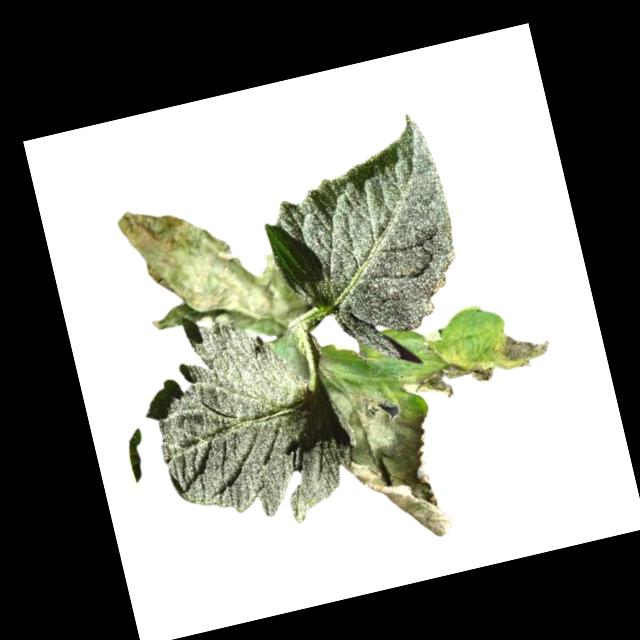Late_blight: (114, 174, 315, 364), (332, 374, 458, 555), (410, 348, 501, 405), (489, 324, 557, 375), (420, 326, 456, 364), (316, 351, 347, 381)
